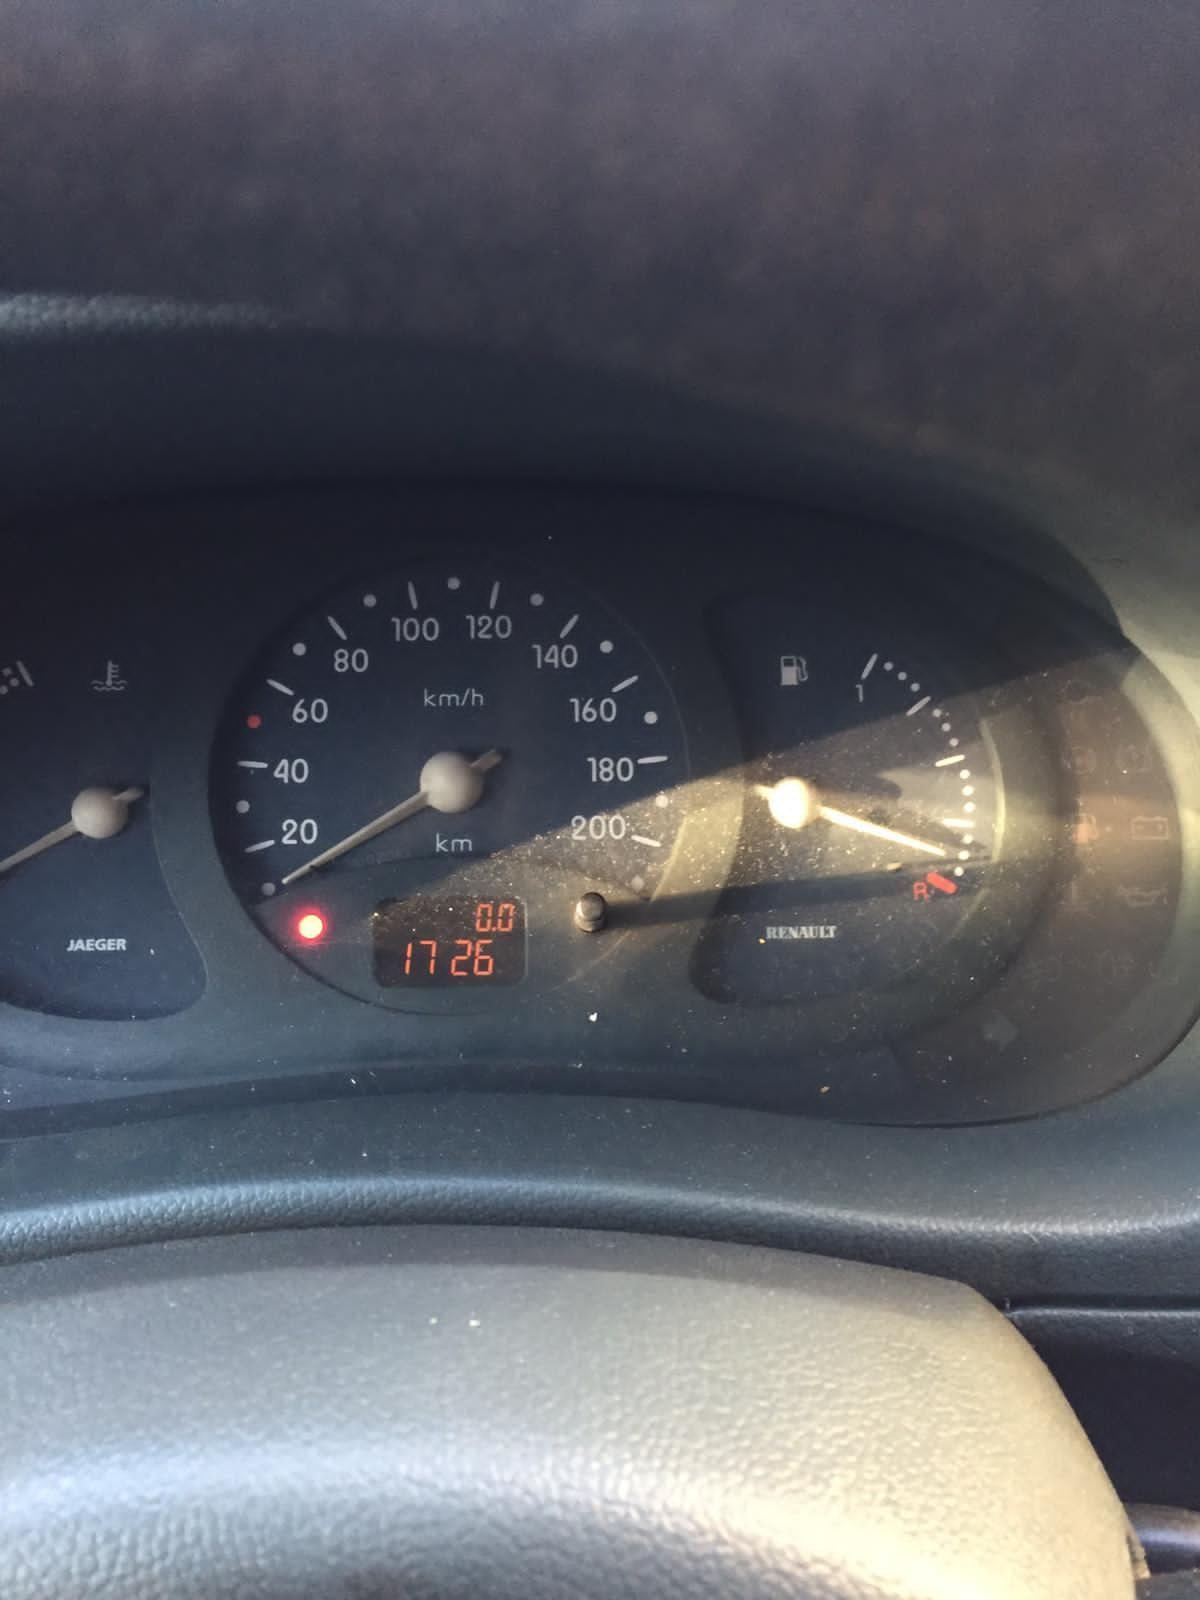,: (492, 926, 495, 932)
0: (495, 903, 513, 932), (475, 903, 492, 931)
1: (405, 942, 412, 974)
2: (449, 939, 471, 976)
6: (473, 939, 494, 976)
7: (417, 939, 437, 975)
odometer: (368, 893, 529, 990)
